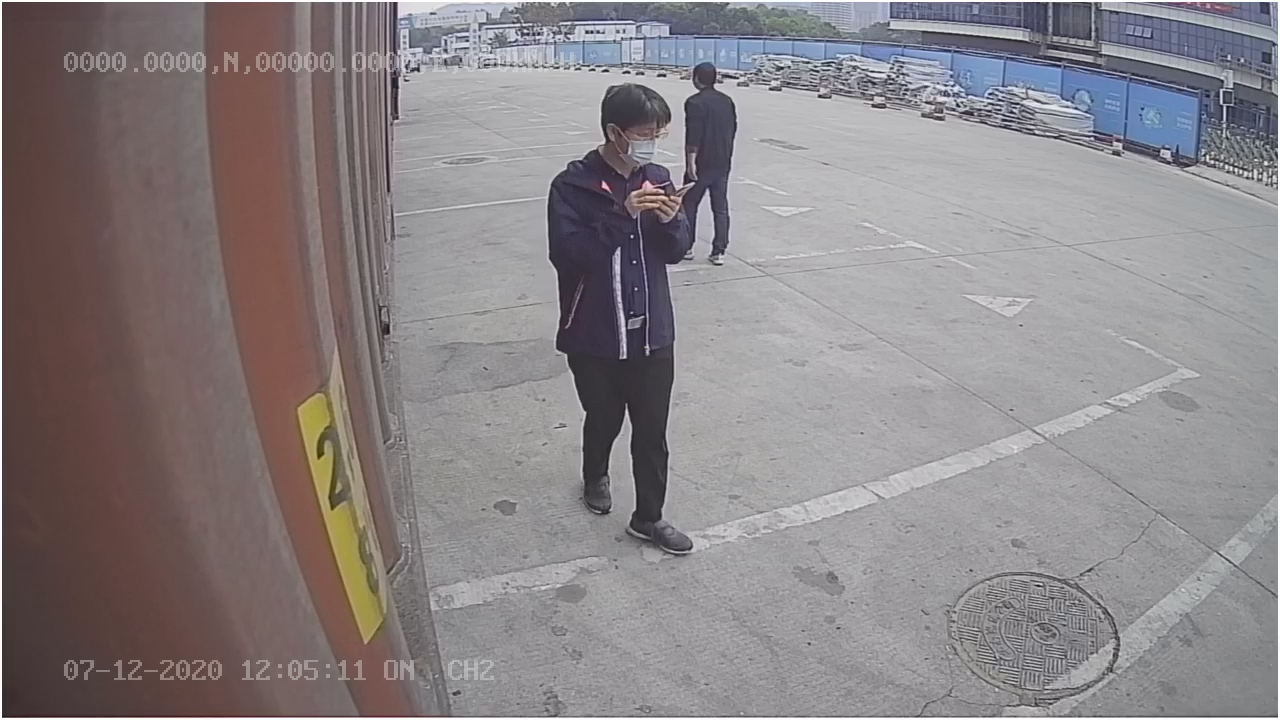person: (545, 79, 694, 558)
